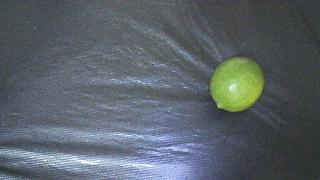LOCAL: (210, 57, 264, 112)
